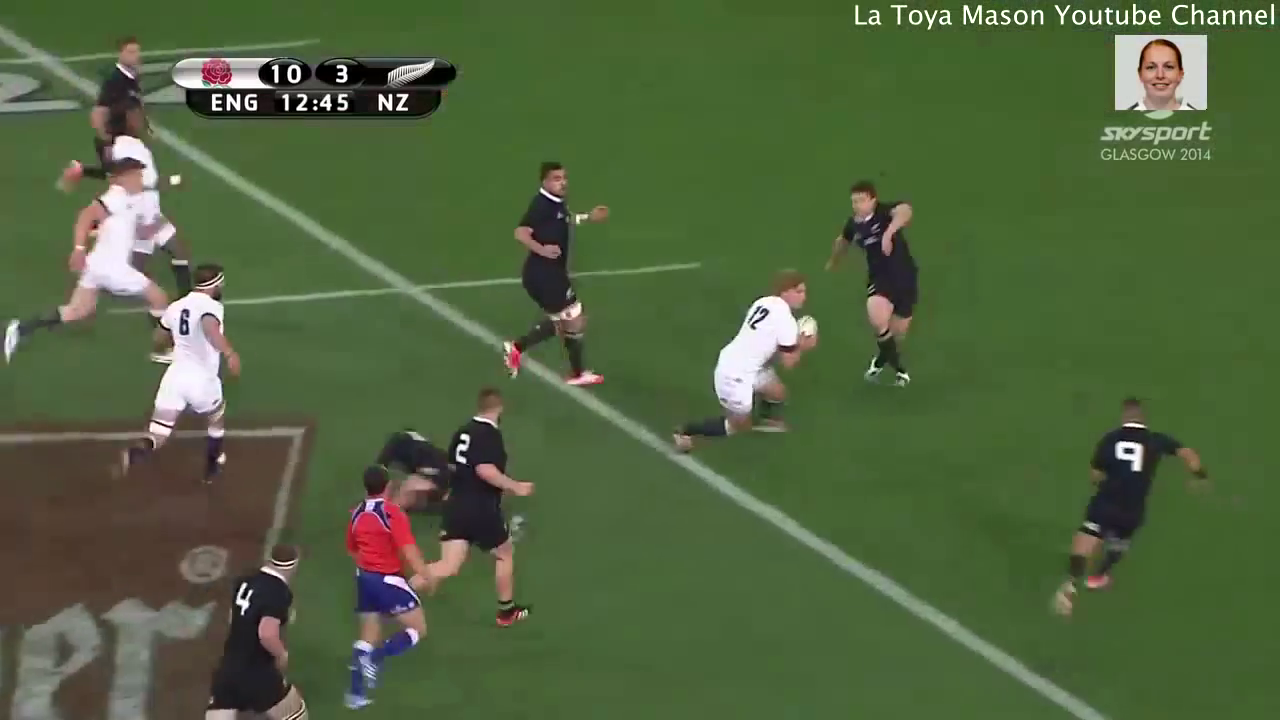ball: (788, 308, 822, 359)
player: (1042, 387, 1212, 621), (1, 152, 183, 368), (404, 380, 544, 634), (661, 264, 827, 464), (497, 157, 633, 392), (110, 263, 243, 495), (335, 461, 433, 716), (822, 176, 925, 404), (196, 535, 322, 720), (58, 28, 151, 191), (363, 419, 465, 508)
